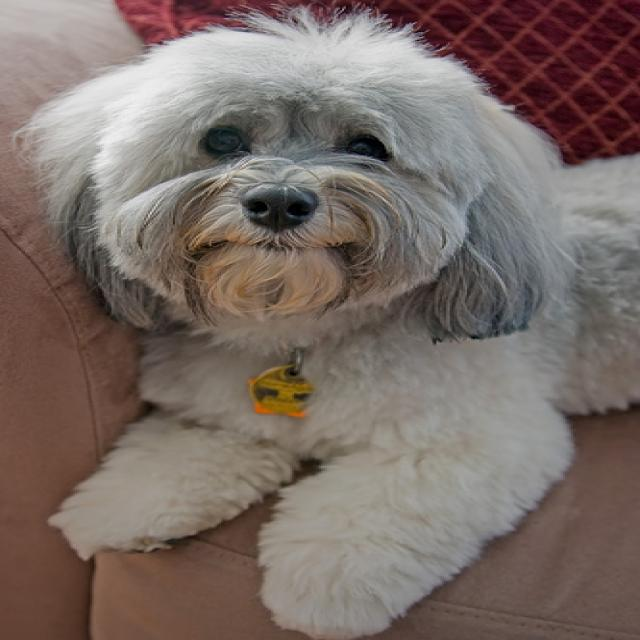dog-havanese: (31, 26, 636, 634)
